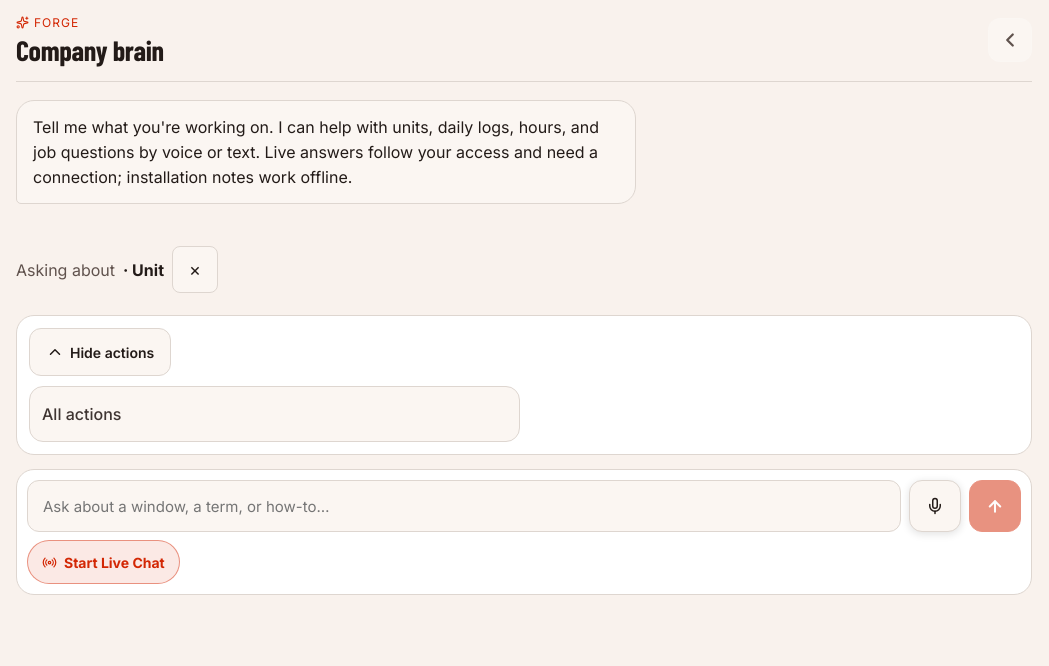
Scenario: Live Ask on the Ask page › tells the person when no final recording bytes could be recovered
The image size is (1049, 666).
Click the button "Start Live Chat".
click(103, 562)  # box [27,540,180,584]
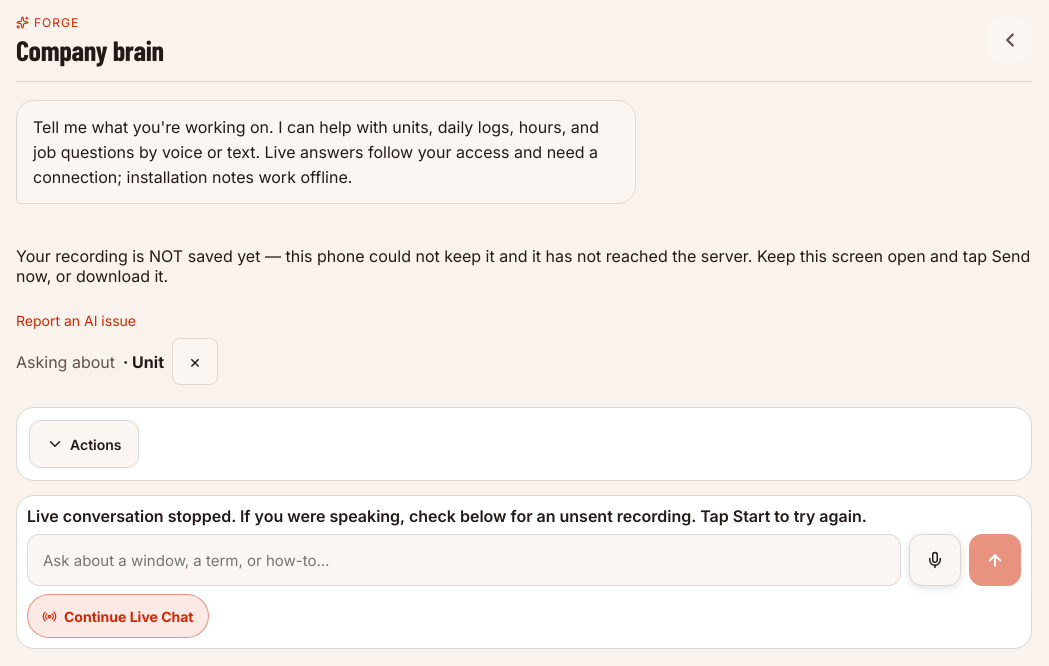
Expected: the text "NOT saved yet" is shown, [16,246,1030,286]
